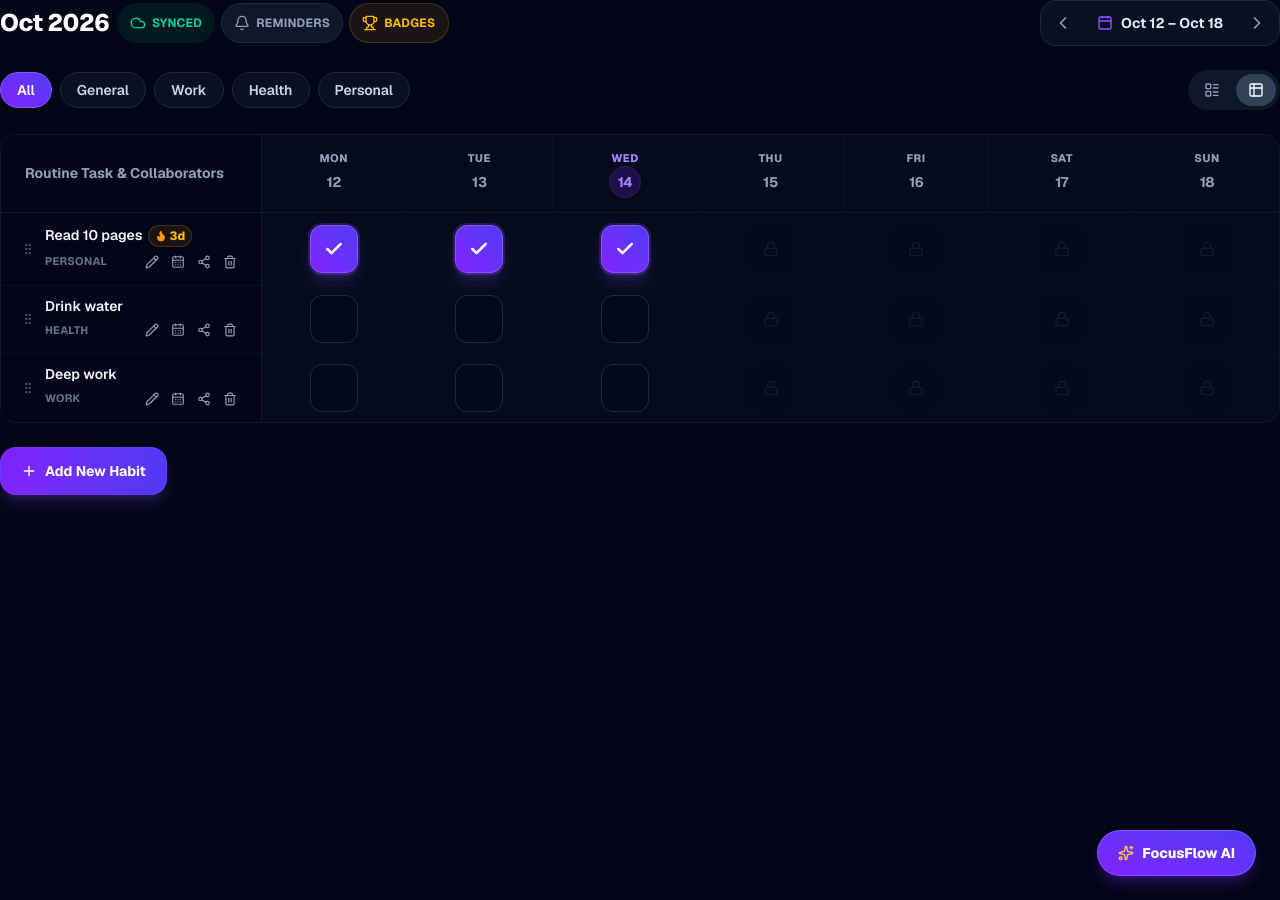
Test: Weekly Tracker › archives a habit and lists it under archived habits
Step 1. Click the button titled "Archive or delete habit" below "Read 10 pages" → (230,262), box [218, 251, 240, 273]
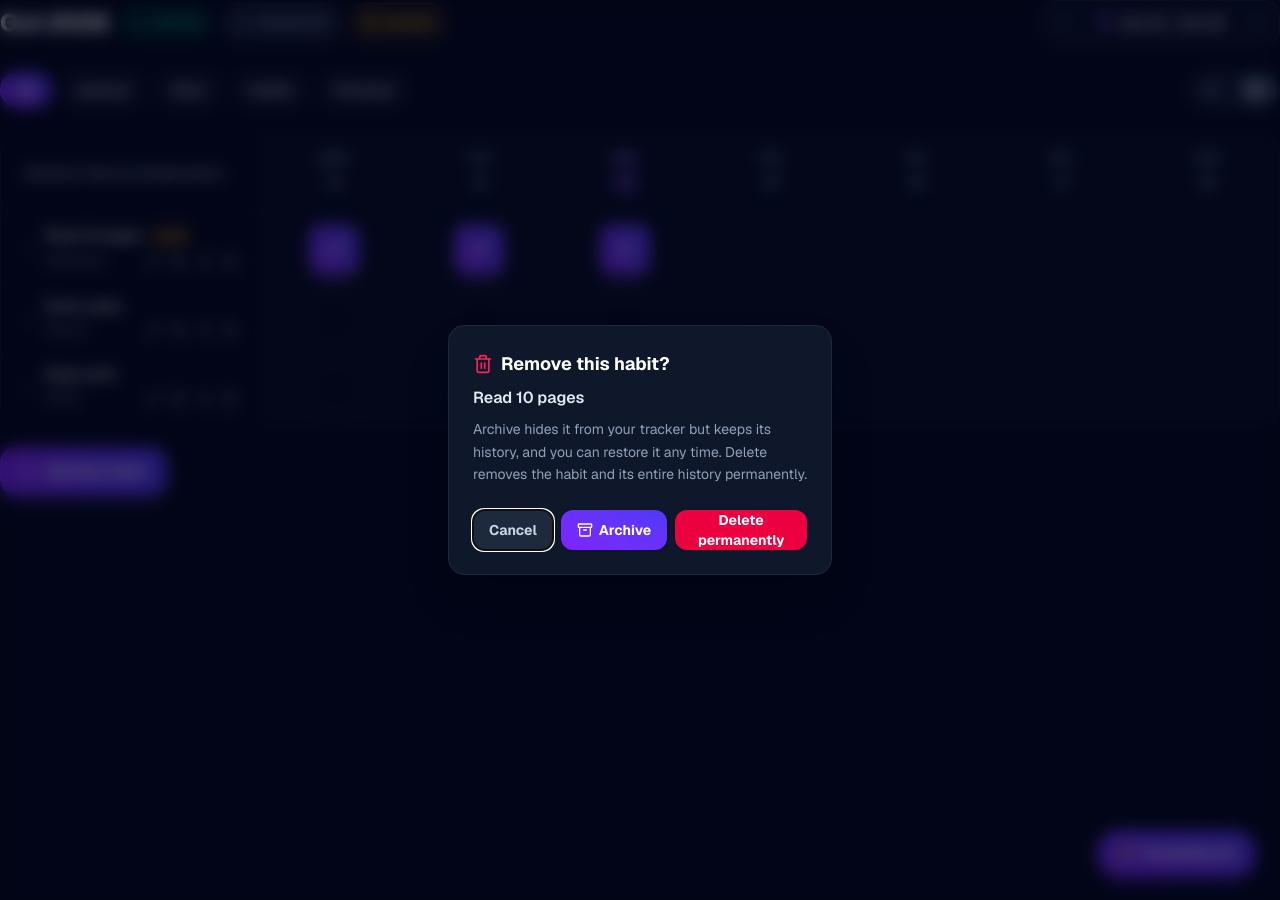
Step 2. Click the button "Archive" → (614,530), box [561, 510, 667, 550]
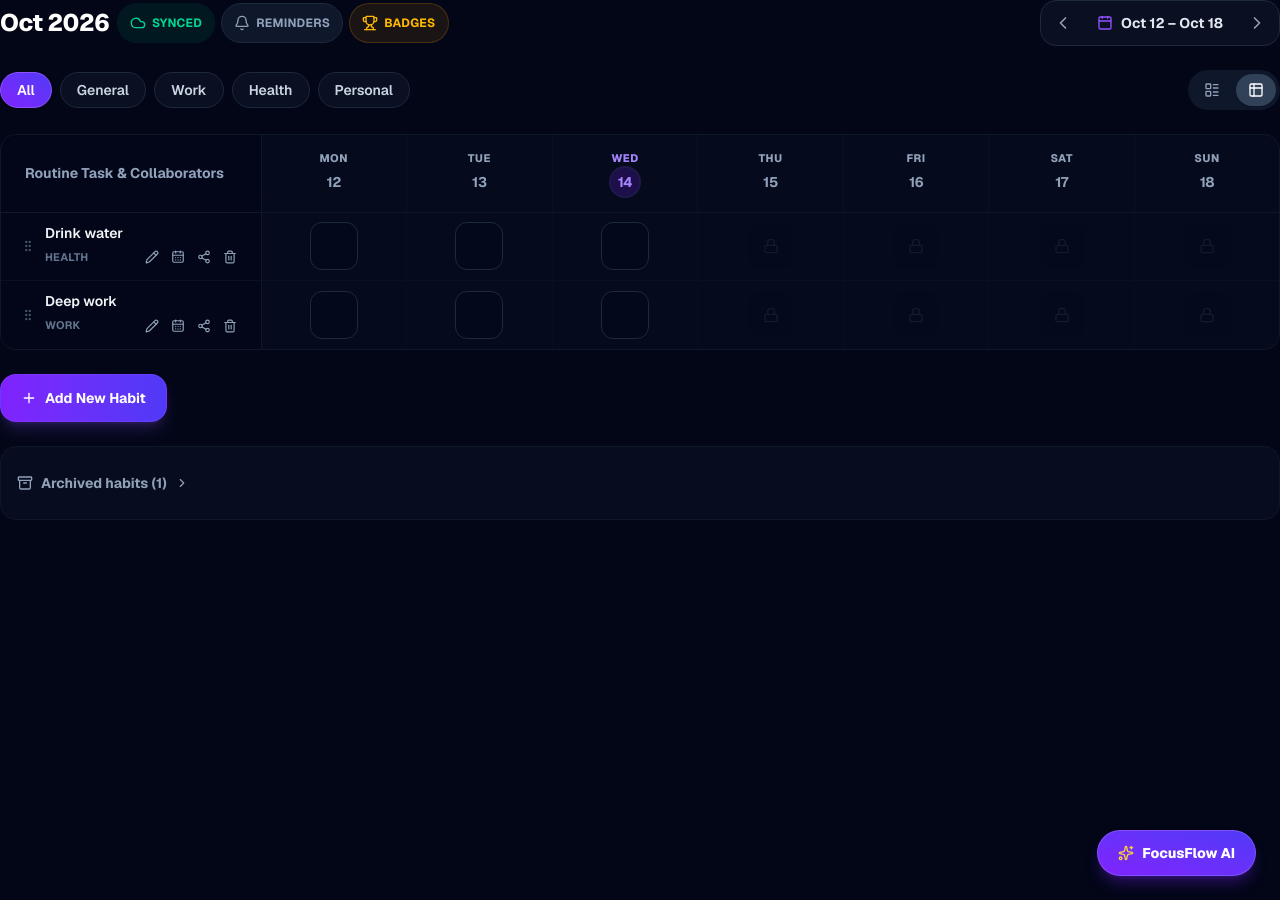
expect the button "Archived habits (1)" is shown: met, box [17, 463, 1263, 503]
